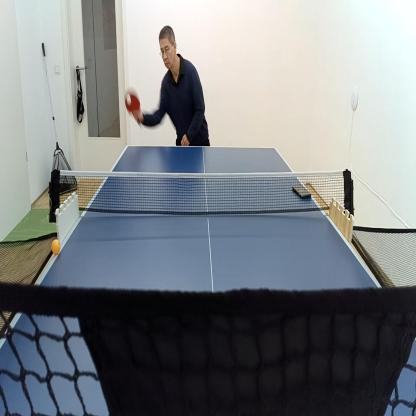Ball: (124, 86, 144, 131), (51, 238, 61, 255), (126, 94, 132, 106)
